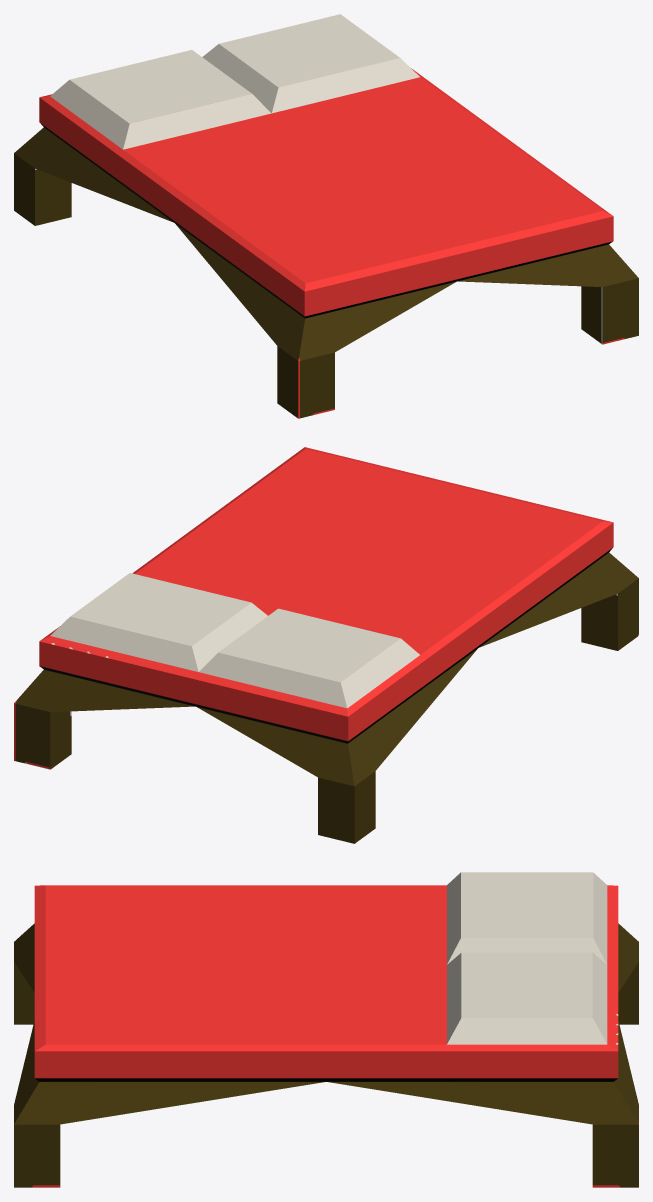
File: bed.glb
3 renders of one model, top to bottom at view 1: azimuth 30°, elevation 25°; view 2: azimuth 150°, elevation 25°; view 3: azimuth 270°, elevation 25°, orthographic. The views are drawn at different scales.
Parts seen in each view (by area): view 1: Cube; view 2: Cube; view 3: Cube.
Part boxes in pixels (left/top/right/bottom): Cube: left=14, top=14, right=638, bottom=418; Cube: left=14, top=447, right=638, bottom=843; Cube: left=14, top=872, right=638, bottom=1187.
Size of the model in its own units: 4.48 by 1.73 by 6.48.
1 material, 1 textured.
